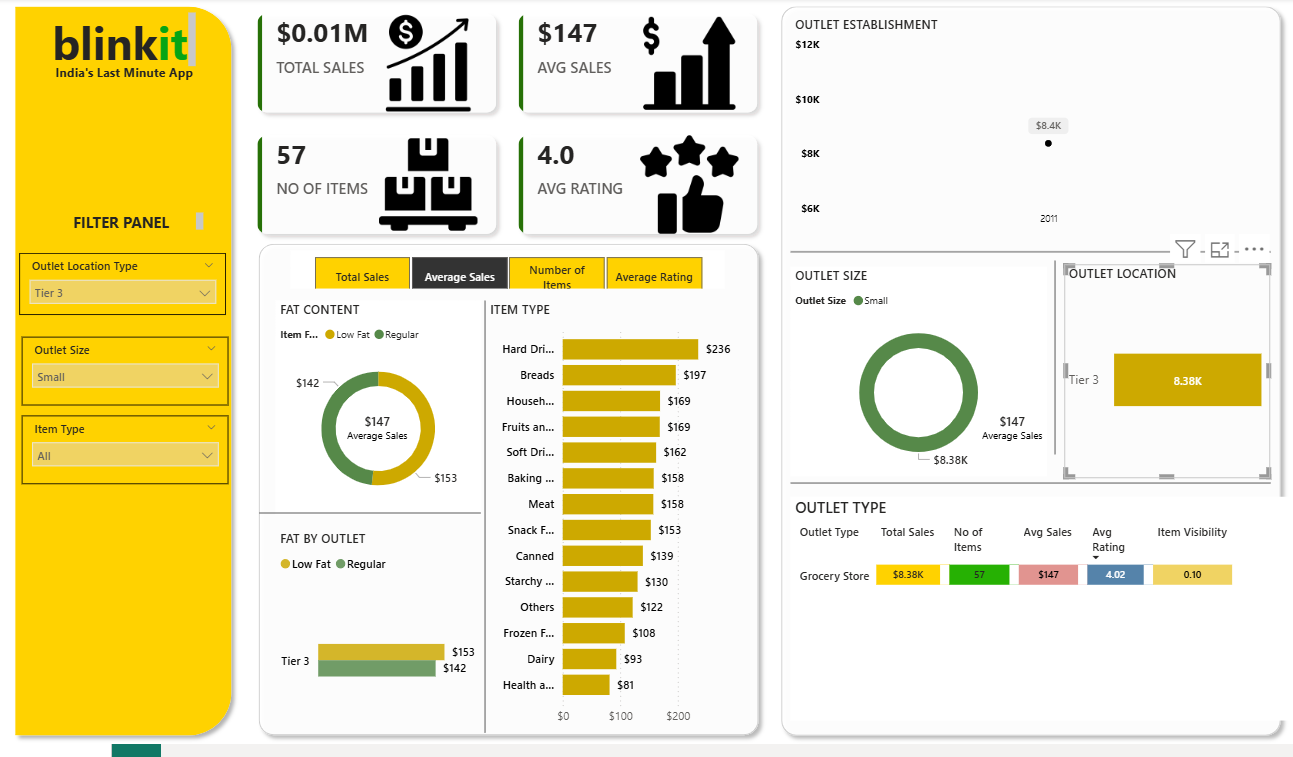

The page's visual inventory and layout, read from the dashboard file:
{"tool":"powerbi","page":{"name":"Blinkit Dashboard","canvas":[1400,800],"ordinal":0},"visuals":[{"type":"shape","box":[10,0,250,800],"z":0},{"type":"textbox","box":[54,10.5,163.6,70.5],"z":1000},{"type":"textbox","box":[46.5,66,177.1,30],"z":2000},{"type":"cardVisual","fields":{"Data":["BlinkIT Grocery Data.Total Sales","BlinkIT Grocery Data.Average Sales","BlinkIT Grocery Data.Number of Items","BlinkIT Grocery Data.Average Rating"]},"box":[261.2,0,570.3,270.2],"z":3000},{"type":"shape","box":[270.2,255.1,553.8,544.8],"z":4000},{"type":"slicer","fields":{"Values":["Metrics.Metrics"]},"box":[313.7,270.2,465.3,40.5],"z":5000},{"type":"donutChart","title":"OUTLET SIZE","fields":{"Y":["BlinkIT Grocery Data.Total Sales"],"Category":["BlinkIT Grocery Data.Outlet Size"]},"box":[849.4,287.8,275,225],"z":5000,"group":"g2"},{"type":"donutChart","title":"FAT CONTENT","fields":{"Y":["BlinkIT Grocery Data.Average Sales"],"Category":["BlinkIT Grocery Data.Item Fat Content"]},"box":[297.2,324.2,220.6,229.6],"z":5000,"group":"g1"},{"type":"clusteredBarChart","title":"FAT BY OUTLET","fields":{"Y":["BlinkIT Grocery Data.Average Sales"],"Category":["BlinkIT Grocery Data.Outlet Location Type"],"Series":["BlinkIT Grocery Data.Item Fat Content"]},"box":[297.2,570.3,220.6,229.6],"z":6000},{"type":"group","id":"g1","title":"Group 1","box":[297.2,324.2,220.6,229.6],"z":7000},{"type":"cardVisual","fields":{"Data":["BlinkIT Grocery Data.Average Sales"]},"box":[1032.3,414.9,111.1,88.6],"z":7000,"group":"g2"},{"type":"cardVisual","fields":{"Data":["BlinkIT Grocery Data.Average Sales"]},"box":[351.2,415.8,111.1,88.6],"z":7000,"group":"g1"},{"type":"shape","box":[280.3,534.8,237.9,34.8],"z":8000},{"type":"shape","box":[497,324.2,50,463.6],"z":9000},{"type":"barChart","title":"ITEM TYPE","fields":{"Y":["BlinkIT Grocery Data.Average Sales"],"Category":["BlinkIT Grocery Data.Item Type"]},"box":[522.7,324.2,281.8,463.6],"z":10000},{"type":"shape","box":[831.7,0,553.3,800],"z":11000},{"type":"lineChart","title":"OUTLET ESTABLISHMENT","fields":{"Category":["BlinkIT Grocery Data.Outlet Establishment Year"],"Y":["BlinkIT Grocery Data.Total Sales"]},"box":[850,18.3,515,235],"z":12000},{"type":"shape","box":[850,255,515,35],"z":13000},{"type":"group","id":"g2","title":"Group 1","box":[849.4,287.8,294,225],"z":14000},{"type":"shape","box":[1108.3,281.7,50,208.3],"z":15000},{"type":"funnel","title":"OUTLET LOCATION","fields":{"Y":["Sum(BlinkIT Grocery Data.Sales)"],"Category":["BlinkIT Grocery Data.Outlet Location Type"]},"box":[1143.3,285,221.7,230],"z":16000},{"type":"shape","box":[850,503.3,515,35],"z":17000},{"type":"pivotTable","title":"OUTLET TYPE","fields":{"Rows":["BlinkIT Grocery Data.Outlet Type"],"Values":["BlinkIT Grocery Data.Total Sales","BlinkIT Grocery Data.Number of Items","BlinkIT Grocery Data.Average Sales","BlinkIT Grocery Data.Average Rating","Avg(BlinkIT Grocery Data.Item Visibility)"]},"box":[850,535,535,240],"z":18000},{"type":"slicer","fields":{"Values":["BlinkIT Grocery Data.Outlet Location Type"]},"box":[23.3,273.3,221.7,66.7],"z":19000},{"type":"slicer","fields":{"Values":["BlinkIT Grocery Data.Outlet Size"]},"box":[25,363.3,221.7,73.3],"z":20000},{"type":"slicer","fields":{"Values":["BlinkIT Grocery Data.Item Type"]},"box":[25,448.3,221.7,73.3],"z":21000},{"type":"textbox","box":[48.3,225,176.7,30],"z":22000}]}

Visuals, with their boxes in screenshot pixels (x1, y1, x2, y2), scaled from the page's 1400x800 canvas onto the 1293x757 screenshot:
shape: l=9, t=0, r=240, b=756
textbox: l=50, t=10, r=201, b=77
textbox: l=43, t=62, r=207, b=91
cardVisual - BlinkIT Grocery Data.Total Sales x BlinkIT Grocery Data.Average Sales: l=241, t=0, r=768, b=256
shape: l=250, t=241, r=761, b=756
slicer - Metrics.Metrics: l=290, t=256, r=719, b=294
"OUTLET SIZE" donutChart: l=784, t=272, r=1038, b=485
"FAT CONTENT" donutChart: l=274, t=307, r=478, b=524
"FAT BY OUTLET" clusteredBarChart: l=274, t=540, r=478, b=756
"Group 1" group: l=274, t=307, r=478, b=524
cardVisual - BlinkIT Grocery Data.Average Sales: l=953, t=393, r=1056, b=476
cardVisual - BlinkIT Grocery Data.Average Sales: l=324, t=393, r=427, b=477
shape: l=259, t=506, r=479, b=539
shape: l=459, t=307, r=505, b=745
"ITEM TYPE" barChart: l=483, t=307, r=743, b=745
shape: l=768, t=0, r=1279, b=756
"OUTLET ESTABLISHMENT" lineChart: l=785, t=17, r=1261, b=240
shape: l=785, t=241, r=1261, b=274
"Group 1" group: l=784, t=272, r=1056, b=485
shape: l=1024, t=267, r=1070, b=464
"OUTLET LOCATION" funnel: l=1056, t=270, r=1261, b=487
shape: l=785, t=476, r=1261, b=509
"OUTLET TYPE" pivotTable: l=785, t=506, r=1279, b=733
slicer - BlinkIT Grocery Data.Outlet Location Type: l=22, t=259, r=226, b=322
slicer - BlinkIT Grocery Data.Outlet Size: l=23, t=344, r=228, b=413
slicer - BlinkIT Grocery Data.Item Type: l=23, t=424, r=228, b=494
textbox: l=45, t=213, r=208, b=241
